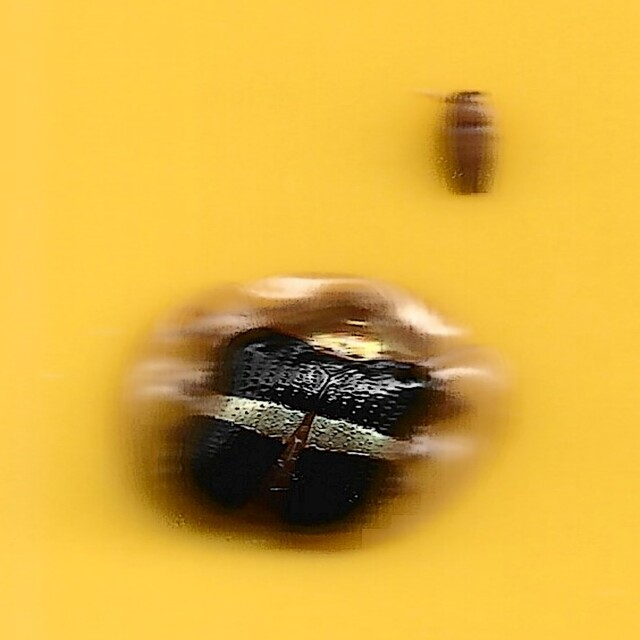Coleoptera: (113, 271, 527, 560)
Hemiptera: (435, 80, 504, 207)
